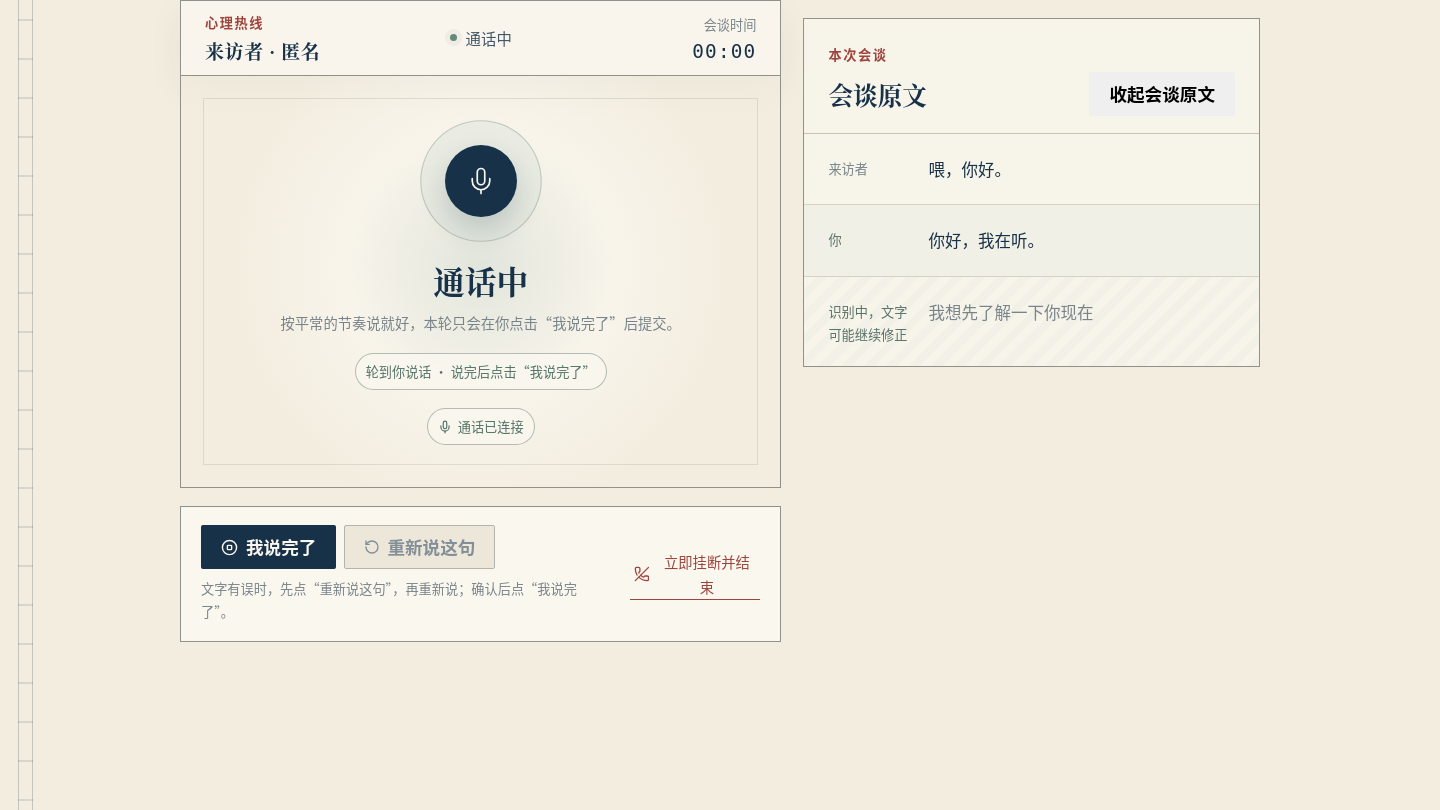
Test case: SessionPage › 桌面会谈使用左侧通话控制、右侧默认展开原文的工作台
The image size is (1440, 810).
Expected: the text "喂，你好。" is shown, [928,157,1011,181]
Expected: the text "我想先了解一下你现在" is shown, [928,300,1093,324]
Click the button "收起会谈原文": (1162, 94) [1089,72,1235,116]
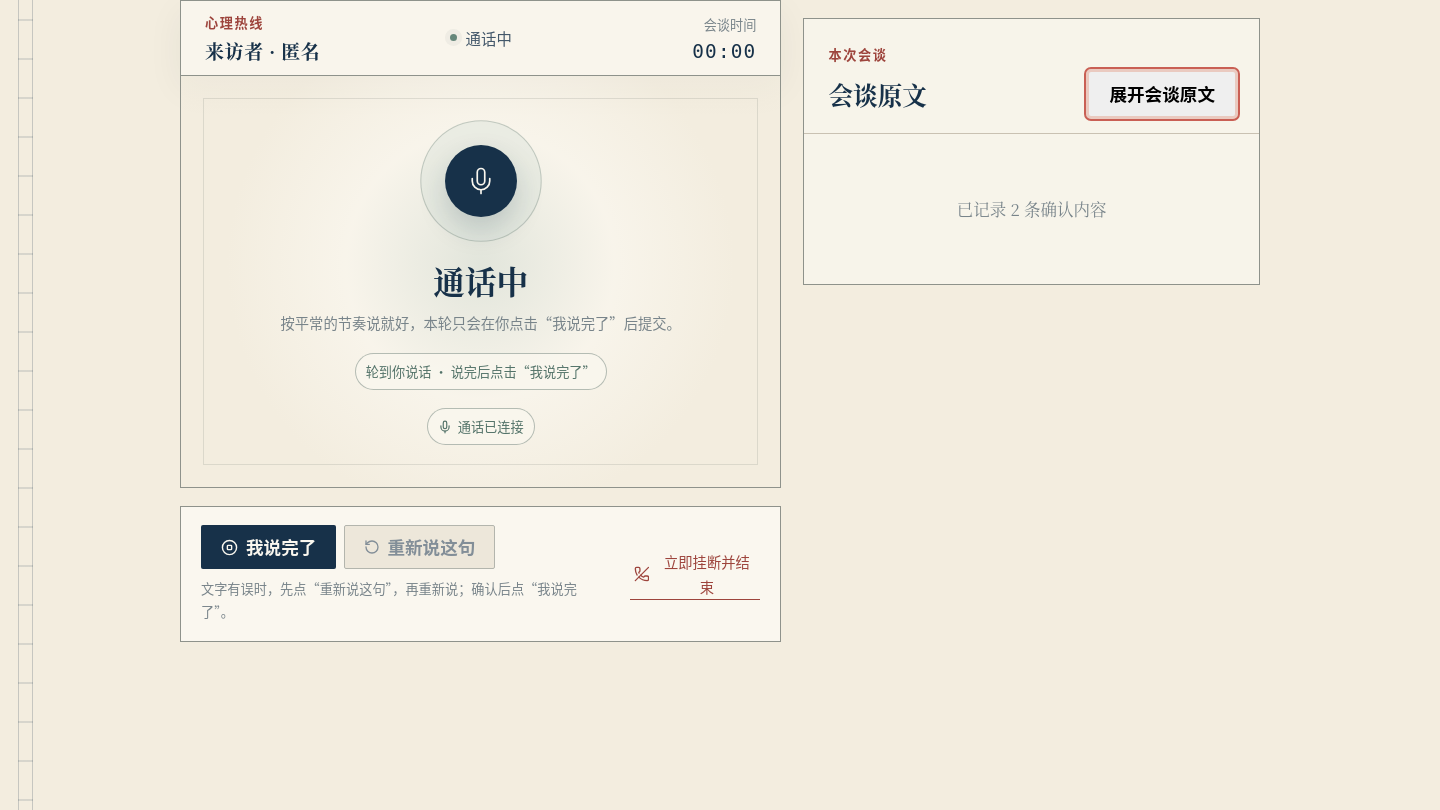
Expected: the text "喂，你好。" is gone
Expected: the text "我想先了解一下你现在" is gone
